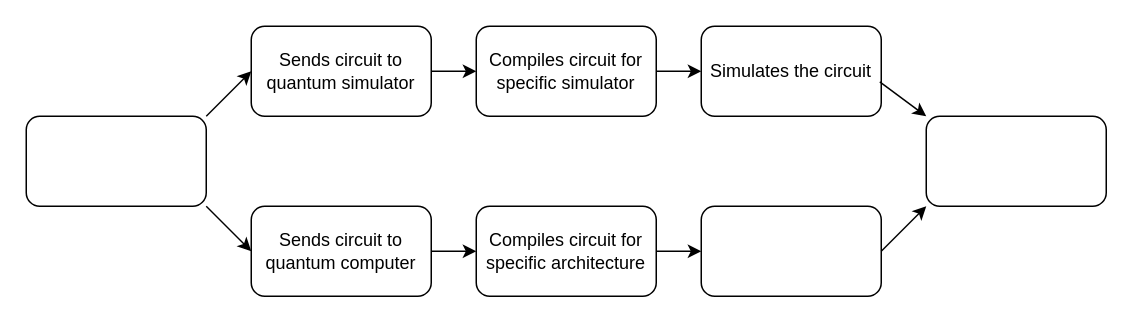
Some shapes in this 1133 by 323 pixel diagram are drawn without their labels. The box of each missing label's shape, as (x1, y1, x2, y2) in pixels:
Executes the circuit: (700, 205, 881, 296)
Returns result to user as classical data: (925, 115, 1106, 206)
User creates a quantum circuit: (25, 115, 206, 206)
